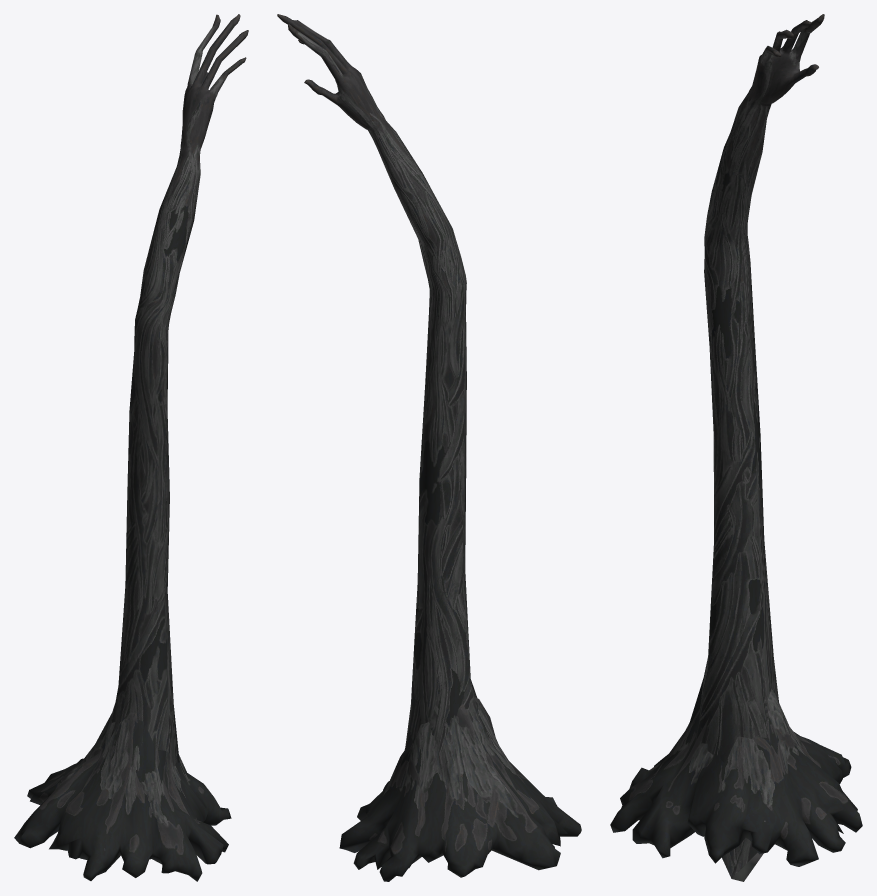
The model's file is bg_rad_kamen_deco02a_sm_kjs.obj.
The picture shows the model from 3 angles, left to right: view 1: azimuth 30°, elevation 25°; view 2: azimuth 150°, elevation 25°; view 3: azimuth 270°, elevation 25°; orthographic projection. The views are drawn at different scales.
Visible parts, largest first — view 1: bg_rad_kamen_deco02a_sm_kjs_0; view 2: bg_rad_kamen_deco02a_sm_kjs_0; view 3: bg_rad_kamen_deco02a_sm_kjs_0.
Part boxes in pixels (<box>): bg_rad_kamen_deco02a_sm_kjs_0: <box>14,14,248,881</box>; bg_rad_kamen_deco02a_sm_kjs_0: <box>277,14,581,881</box>; bg_rad_kamen_deco02a_sm_kjs_0: <box>610,14,862,881</box>.
Bounding box in the file's own units: 1.67 × 5.26 × 1.32.
Materials: 1 (1 with a texture image).
